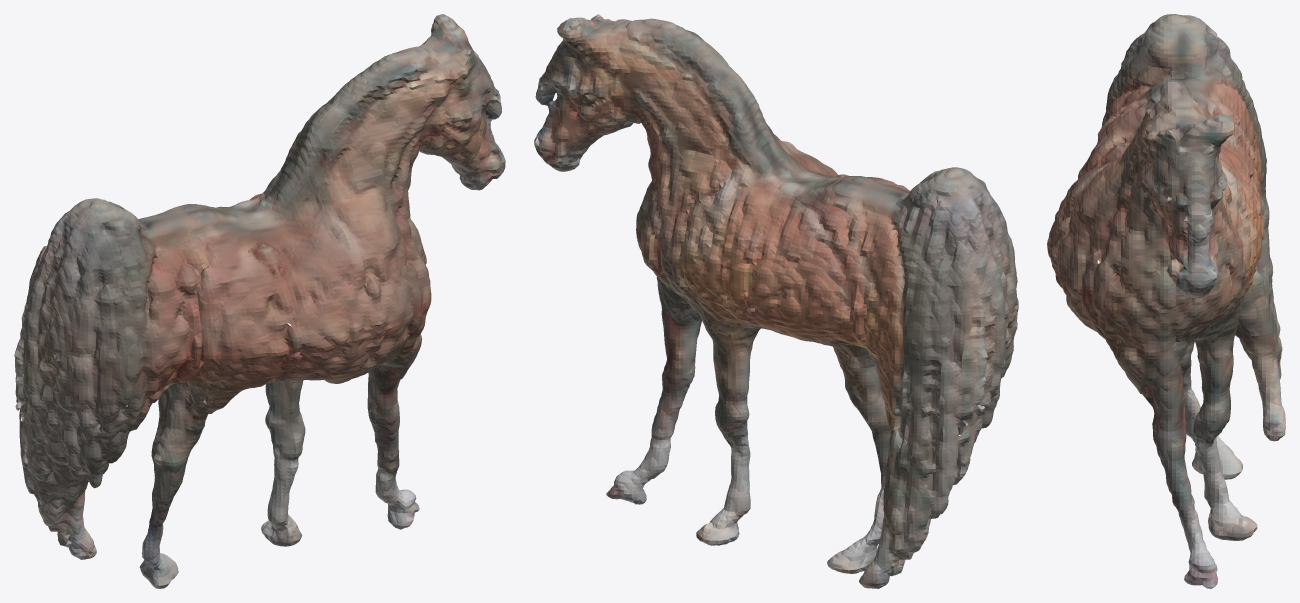
The model's file is house.glb.
3 views of the same model, side by side, from view 1: azimuth 30°, elevation 25°; view 2: azimuth 150°, elevation 25°; view 3: azimuth 270°, elevation 25° (orthographic). The views are drawn at different scales.
Parts seen in each view (by area): view 1: world; view 2: world; view 3: world.
Part boxes in pixels (x1=…): world: x1=14, y1=14, x2=505, y2=588; world: x1=534, y1=14, x2=1018, y2=588; world: x1=1047, y1=14, x2=1285, y2=588.
Size of the model in its own units: 0.9719 by 0.9614 by 0.416.
